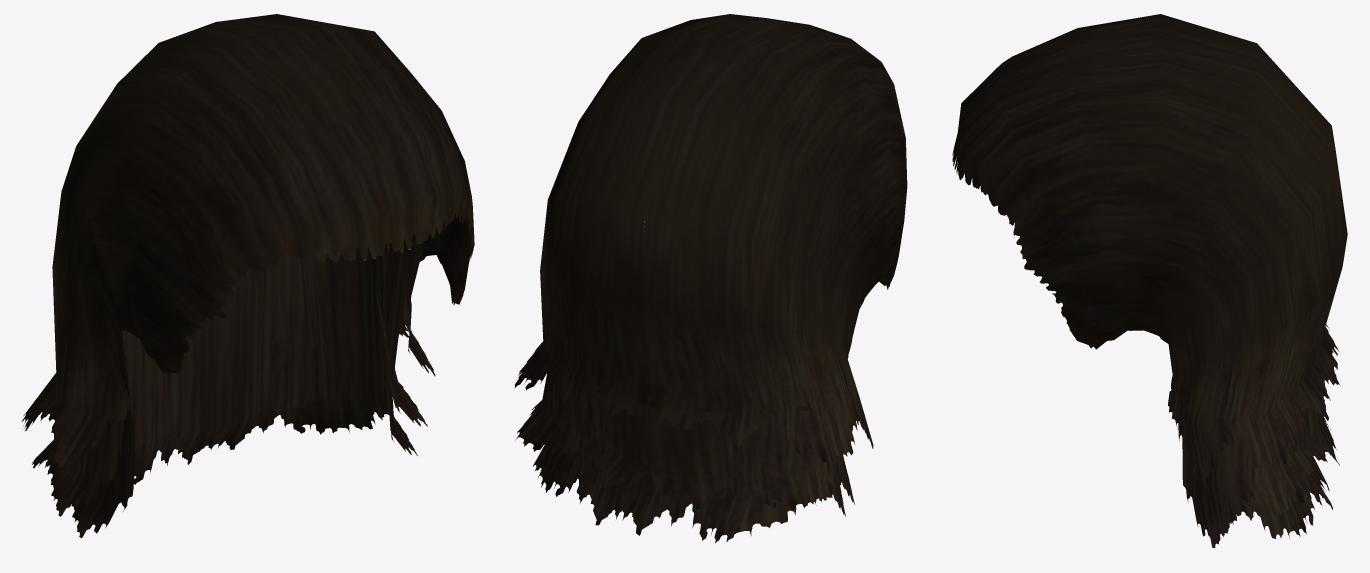
The model's file is hair_019.fbx.
The picture shows the model from 3 angles, left to right: view 1: azimuth 30°, elevation 25°; view 2: azimuth 150°, elevation 25°; view 3: azimuth 270°, elevation 25°; orthographic projection. The views are drawn at different scales.
Visible parts, largest first — view 1: hair_019; view 2: hair_019; view 3: hair_019.
Part boxes in pixels (x1,y1,x2,y2): hair_019: (21, 14, 474, 538); hair_019: (515, 14, 907, 543); hair_019: (952, 14, 1347, 547).
Bounding box in the file's own units: 22.89 × 27.5 × 22.42.
